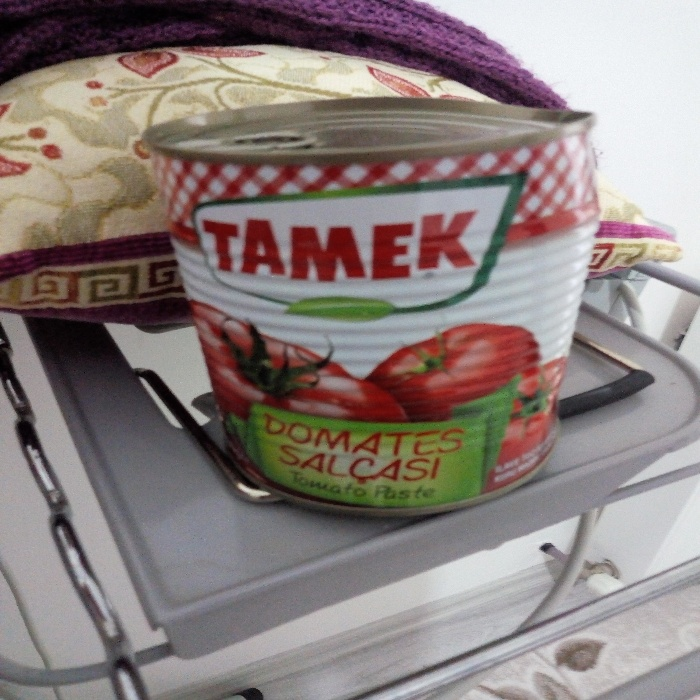salca: (110, 51, 607, 508)
